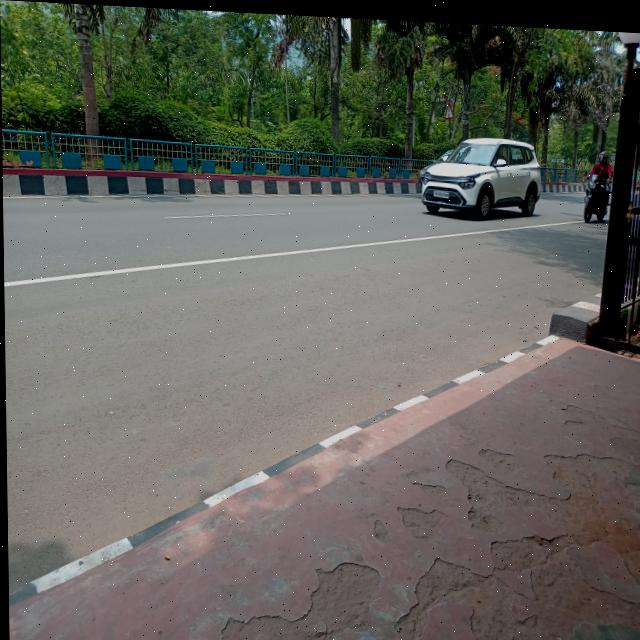bike: (581, 165, 608, 219)
car: (409, 115, 550, 236)
